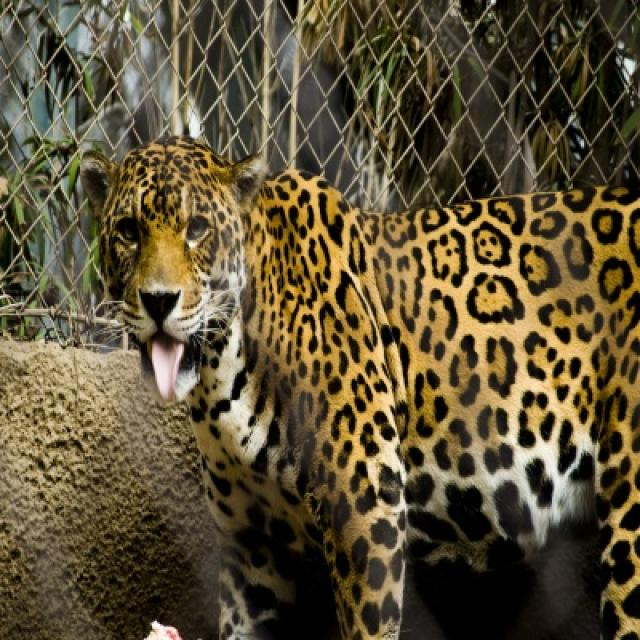Jaguar: (82, 136, 638, 638)
